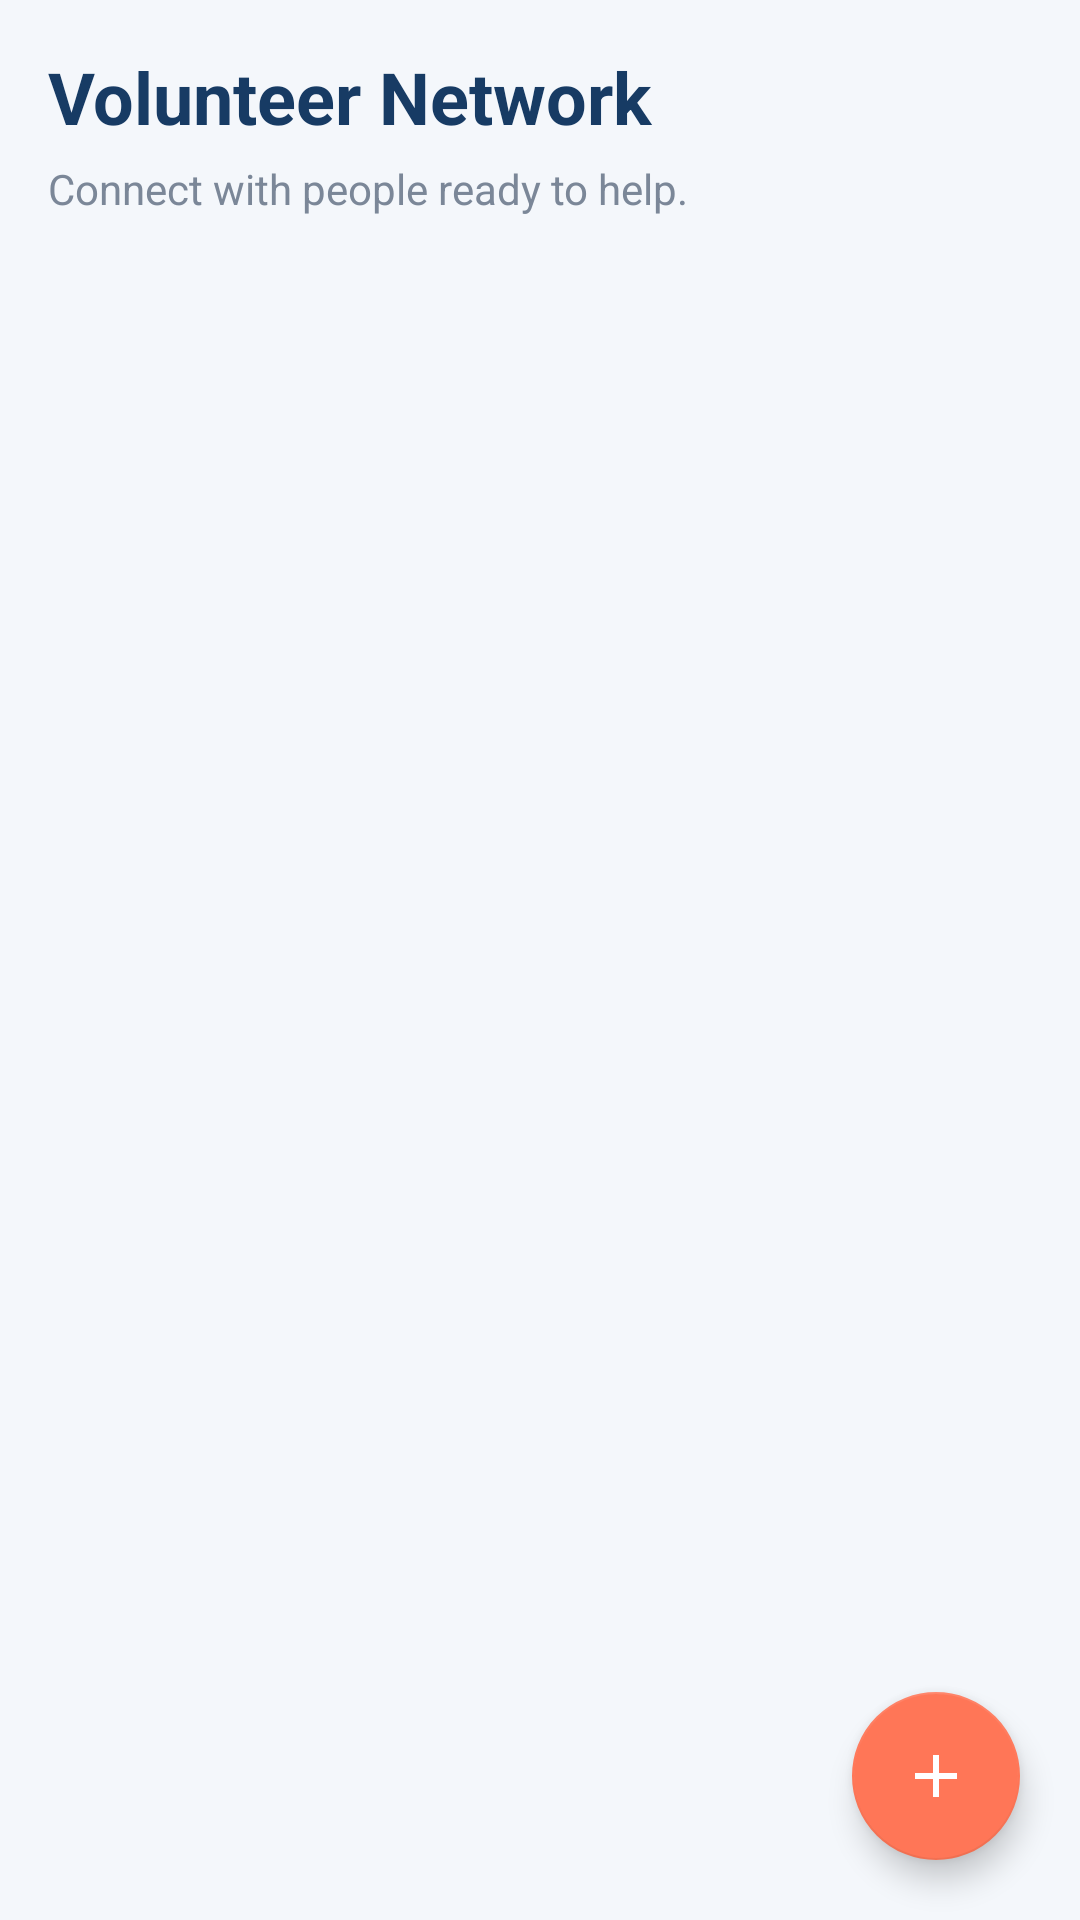

Screen size 1080*1920. Icon name, then its center in pixels as (x=x, y=y):
Add volunteer: (x=936, y=1776)
